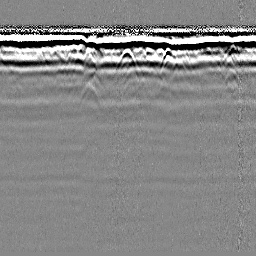cavity: (115, 46, 138, 73)
